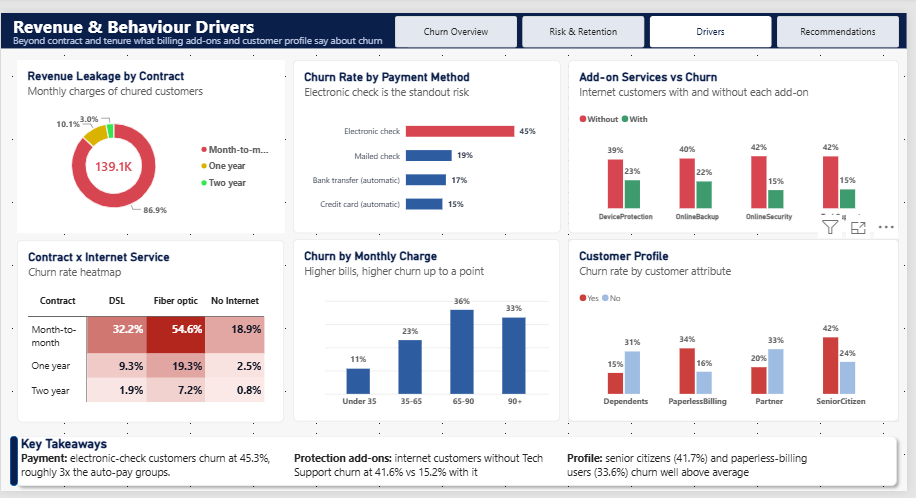

The page's visual inventory and layout, read from the dashboard file:
{"tool":"powerbi","page":{"name":"Drivers","canvas":[1380,727],"ordinal":2},"visuals":[{"type":"shape","box":[14,635,1360,94],"z":0},{"type":"shape","box":[0,0,1380,54],"z":1000},{"type":"textbox","box":[18,1,600,40],"z":2000},{"type":"pageNavigator","box":[600,4,770,48],"z":3000},{"type":"textbox","box":[18,30,600,20],"z":4000},{"type":"donutChart","title":"Revenue Leakage by Contract","fields":{"Category":["Churn.Contract"],"Y":["Churn.Revenue Leakage"]},"box":[24,72,408,264],"z":5000},{"type":"clusteredBarChart","title":"Churn Rate by Payment Method","fields":{"Category":["Churn.PaymentMethod"],"Y":["Churn.Churn Rate"]},"box":[445,72,408,264],"z":6000},{"type":"clusteredColumnChart","title":"Add-on Services vs Churn","fields":{"Category":["AddOns.Attribute"],"Series":["AddOns.Status"],"Y":["Avg(AddOns.ChurnRate)"]},"box":[864,72,504,264],"z":7000},{"type":"pivotTable","title":"Contract x Internet Service","fields":{"Columns":["Churn.InternetLabel"],"Rows":["Churn.Contract"],"Values":["Churn.Churn Rate"]},"box":[24,346,407,278],"z":8000},{"type":"clusteredColumnChart","title":"Churn by Monthly Charge","fields":{"Category":["Churn.ChargeBand"],"Y":["Churn.Churn Rate"]},"box":[445,345,407,278],"z":9000},{"type":"clusteredColumnChart","title":"Customer Profile","fields":{"Category":["Profile.Attribute"],"Series":["Profile.Value"],"Y":["Avg(Profile.ChurnRate)"]},"box":[864,345,504,278],"z":10000},{"type":"shape","box":[14,645,12,76],"z":11000},{"type":"textbox","box":[30,645,300,24],"z":12000},{"type":"textbox","box":[30,668,400,52],"z":13000},{"type":"textbox","box":[446,668,400,52],"z":14000},{"type":"textbox","box":[862,668,400,52],"z":15000}]}

Visuals, with their boxes on the page's 1380x727 design canvas (x1, y1, x2, y2). These are canvas units, not pixel positions in the 916x498 screenshot, which may show the page scaled, cropped or inside an application window:
shape: [x1=14, y1=635, x2=1374, y2=729]
shape: [x1=0, y1=0, x2=1380, y2=54]
textbox: [x1=18, y1=1, x2=618, y2=41]
pageNavigator: [x1=600, y1=4, x2=1370, y2=52]
textbox: [x1=18, y1=30, x2=618, y2=50]
"Revenue Leakage by Contract" donutChart: [x1=24, y1=72, x2=432, y2=336]
"Churn Rate by Payment Method" clusteredBarChart: [x1=445, y1=72, x2=853, y2=336]
"Add-on Services vs Churn" clusteredColumnChart: [x1=864, y1=72, x2=1368, y2=336]
"Contract x Internet Service" pivotTable: [x1=24, y1=346, x2=431, y2=624]
"Churn by Monthly Charge" clusteredColumnChart: [x1=445, y1=345, x2=852, y2=623]
"Customer Profile" clusteredColumnChart: [x1=864, y1=345, x2=1368, y2=623]
shape: [x1=14, y1=645, x2=26, y2=721]
textbox: [x1=30, y1=645, x2=330, y2=669]
textbox: [x1=30, y1=668, x2=430, y2=720]
textbox: [x1=446, y1=668, x2=846, y2=720]
textbox: [x1=862, y1=668, x2=1262, y2=720]
